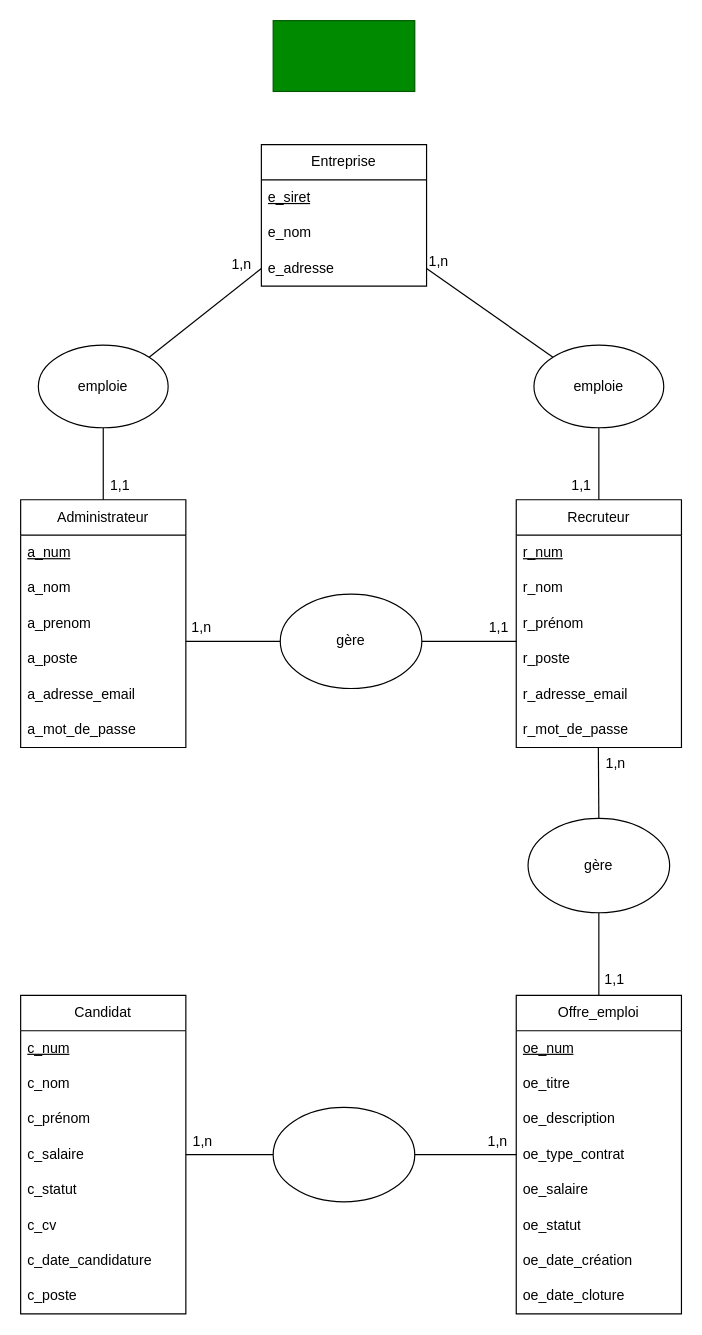
The diagram is 702 pixels wide and 1335 high, and some of its shapes have lost their labels. Here are the shapes that lost their labels. From the top down, the centre of each, then its label:
At (x=343, y=55): "MCD".
At (x=343, y=1154): "reçoit".
